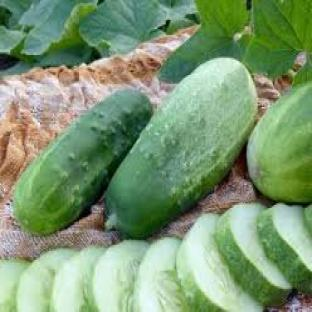Cucumber: (106, 59, 256, 238), (14, 89, 152, 233), (177, 215, 262, 311), (216, 204, 291, 305), (247, 85, 311, 203), (258, 204, 311, 293), (135, 238, 189, 311), (92, 241, 148, 311), (17, 248, 76, 311), (51, 247, 105, 311), (0, 260, 28, 311), (305, 205, 311, 235)
